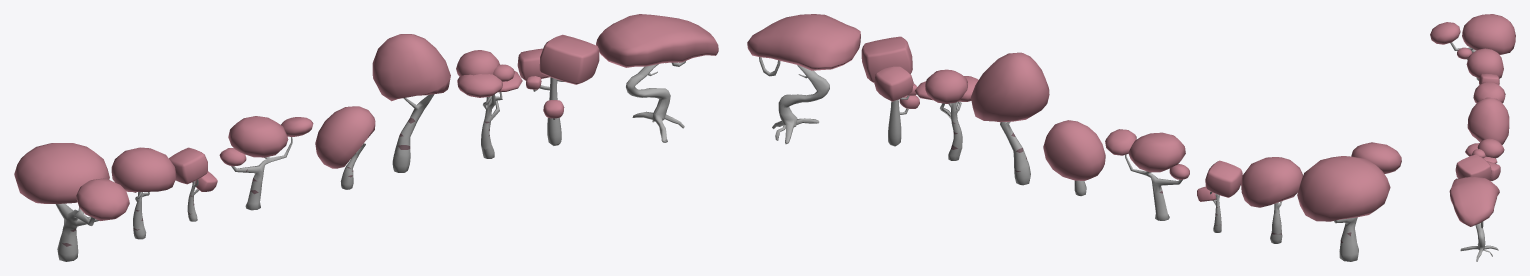
File: trees.fbx
The picture shows the model from 3 angles, left to right: view 1: azimuth 30°, elevation 25°; view 2: azimuth 150°, elevation 25°; view 3: azimuth 270°, elevation 25°; orthographic projection. The views are drawn at different scales.
Visible parts, largest first — view 1: tree_i_leaf1, tree_a_leaf1, tree_f_leaf1, tree_e_leaf1, tree_b_leaf1, tree_h_leaf1, tree_d_leaf2, tree_a_leaf3, tree_i, tree_a, tree_f, tree_c_leaf1 (+8 smaller); view 2: tree_a_leaf1, tree_i_leaf1, tree_f_leaf1, tree_e_leaf1, tree_b_leaf1, tree_d_leaf2, tree_i, tree_h_leaf1, tree_g_leaf2, tree_h_leaf2, tree_c_leaf1, tree_a_leaf3 (+7 smaller); view 3: tree_i_leaf1, tree_a_leaf1, tree_f_leaf1, tree_b_leaf1, tree_h_leaf1, tree_a_leaf3, tree_d_leaf2, tree_i, tree_g_leaf2, tree_c_leaf1, tree_h_leaf2, tree_a_leaf2 (+4 smaller).
Boxes of the visible parts, x1,y1,x2,y2 form: tree_i_leaf1: [596, 14, 718, 67]; tree_a_leaf1: [14, 143, 109, 203]; tree_f_leaf1: [372, 34, 450, 101]; tree_e_leaf1: [315, 106, 375, 168]; tree_b_leaf1: [111, 147, 176, 192]; tree_h_leaf1: [539, 34, 599, 84]; tree_d_leaf2: [228, 116, 288, 157]; tree_a_leaf3: [76, 178, 129, 220]; tree_i: [626, 61, 685, 142]; tree_a: [55, 203, 99, 261]; tree_f: [392, 94, 434, 172]; tree_c_leaf1: [169, 147, 207, 184]; tree_a_leaf1: [1297, 156, 1390, 221]; tree_i_leaf1: [747, 14, 860, 70]; tree_f_leaf1: [971, 52, 1049, 122]; tree_e_leaf1: [1043, 120, 1105, 180]; tree_b_leaf1: [1241, 157, 1302, 207]; tree_d_leaf2: [1128, 132, 1185, 172]; tree_i: [759, 57, 829, 144]; tree_h_leaf1: [861, 36, 912, 82]; tree_g_leaf2: [925, 69, 967, 103]; tree_h_leaf2: [874, 66, 913, 101]; tree_c_leaf1: [1205, 160, 1242, 197]; tree_a_leaf3: [1351, 142, 1401, 173]; tree_i_leaf1: [1449, 176, 1499, 226]; tree_a_leaf1: [1462, 14, 1515, 54]; tree_f_leaf1: [1467, 97, 1509, 144]; tree_b_leaf1: [1466, 48, 1503, 78]; tree_h_leaf1: [1455, 154, 1491, 180]; tree_a_leaf3: [1430, 22, 1460, 44]; tree_d_leaf2: [1473, 82, 1505, 103]; tree_i: [1460, 221, 1498, 261]; tree_g_leaf2: [1477, 138, 1504, 158]; tree_c_leaf1: [1479, 73, 1499, 84]; tree_h_leaf2: [1486, 161, 1500, 181]; tree_a_leaf2: [1457, 47, 1472, 59].
Bounding box in the file's own units: 71.55 × 15.09 × 13.44.
